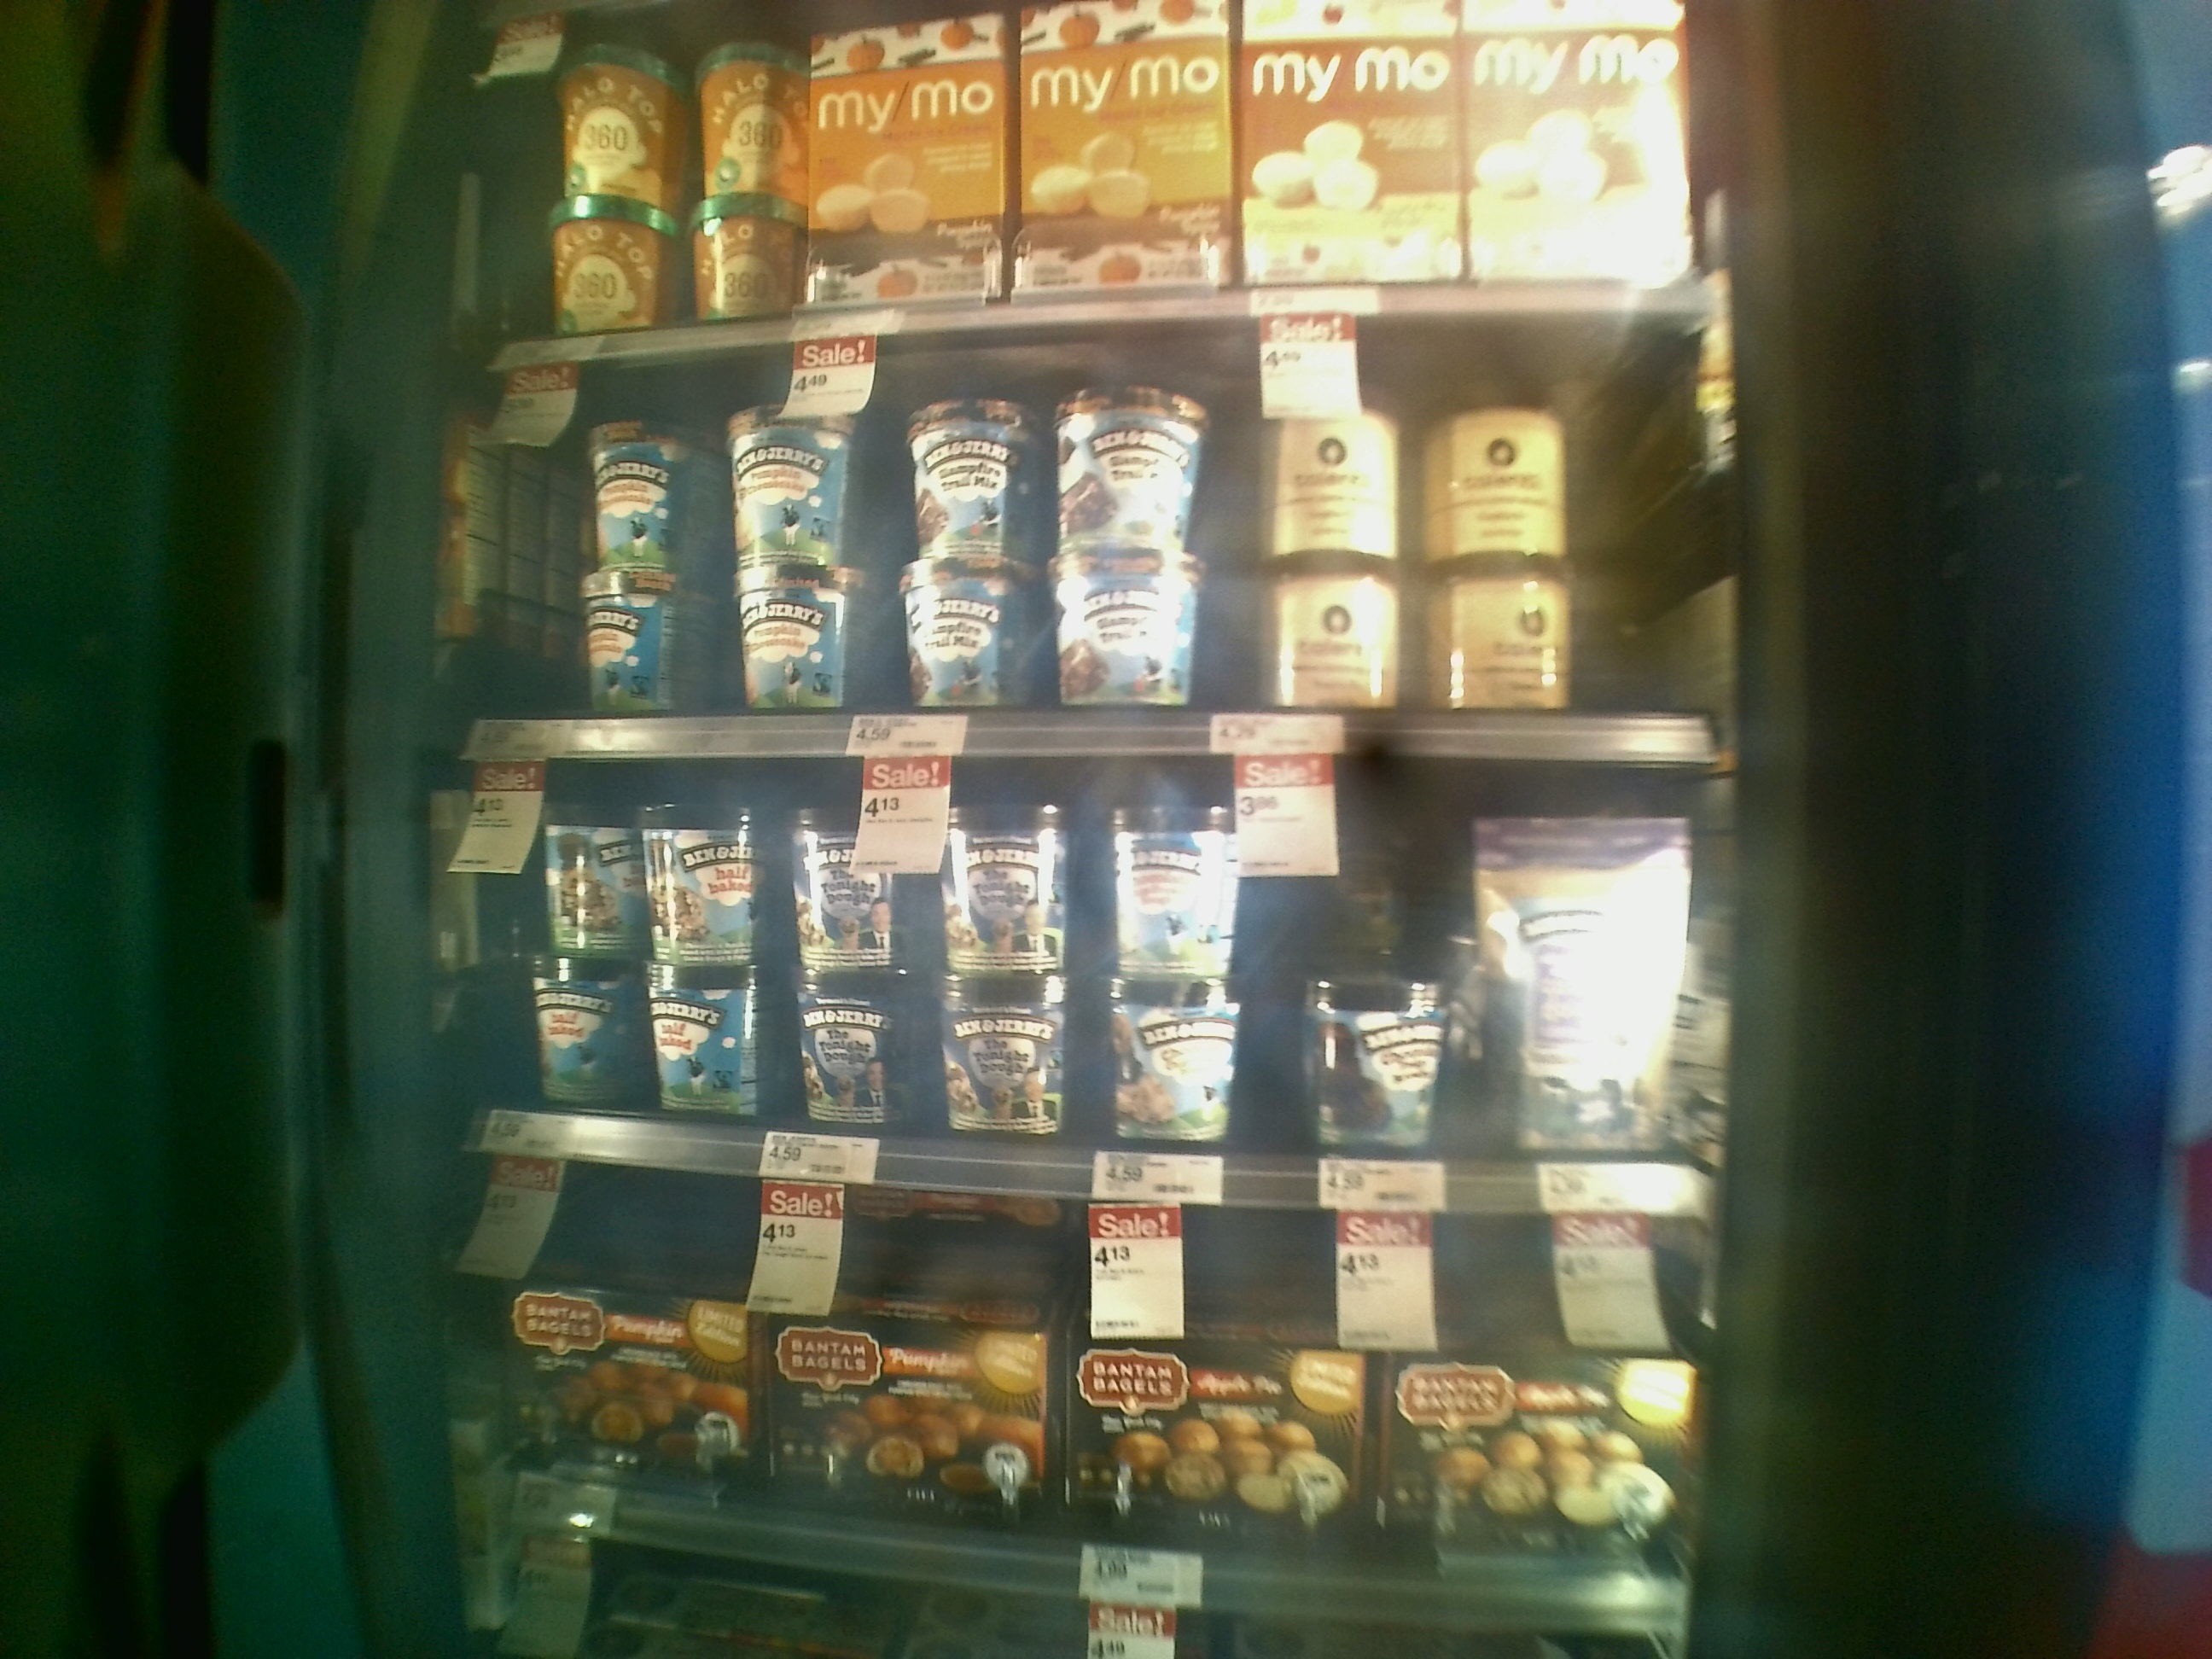shelf: (347, 1145, 1700, 1624), (404, 737, 1726, 1213), (432, 333, 1742, 765)
